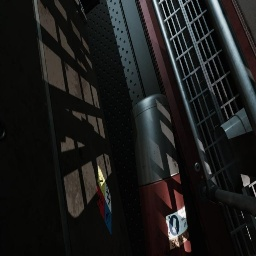NitrogenTank ,: (131, 94, 192, 256)
